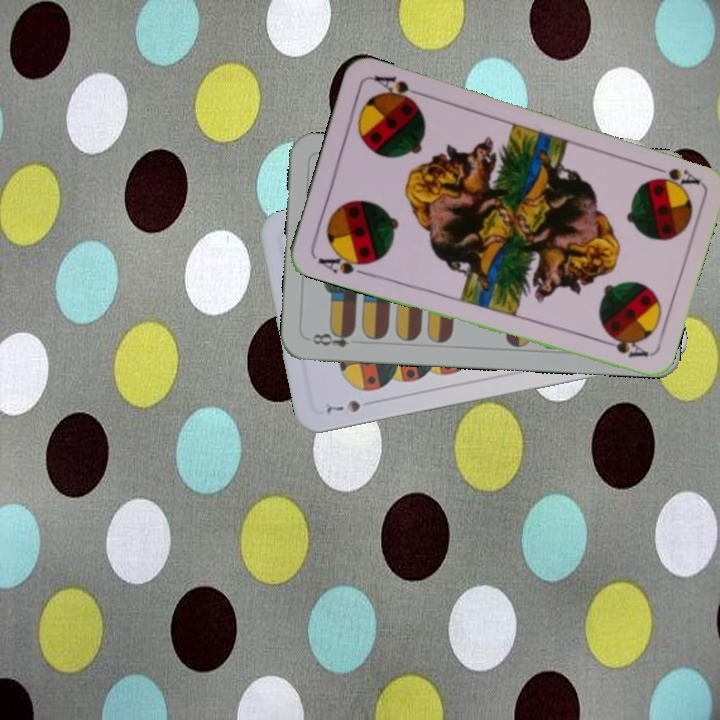E8: (305, 326, 356, 350)
S7: (322, 396, 363, 416)
SA: (314, 247, 373, 278), (644, 160, 702, 188)
